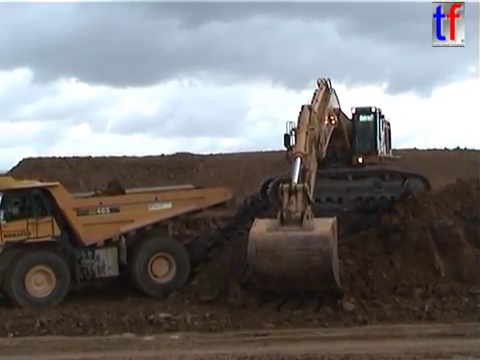excavator: (242, 74, 434, 298)
truck: (1, 174, 236, 311)
